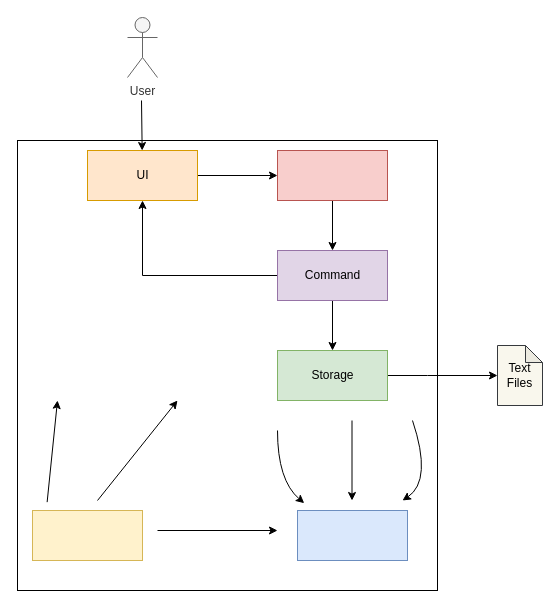
Some shapes in this 560 by 608 pixel diagram are drawn without their labels. Each missing label, with the box of its shape:
Gazeeebo: (32, 510, 142, 560)
Log Center: (296, 510, 408, 560)
Parser: (276, 150, 388, 200)
